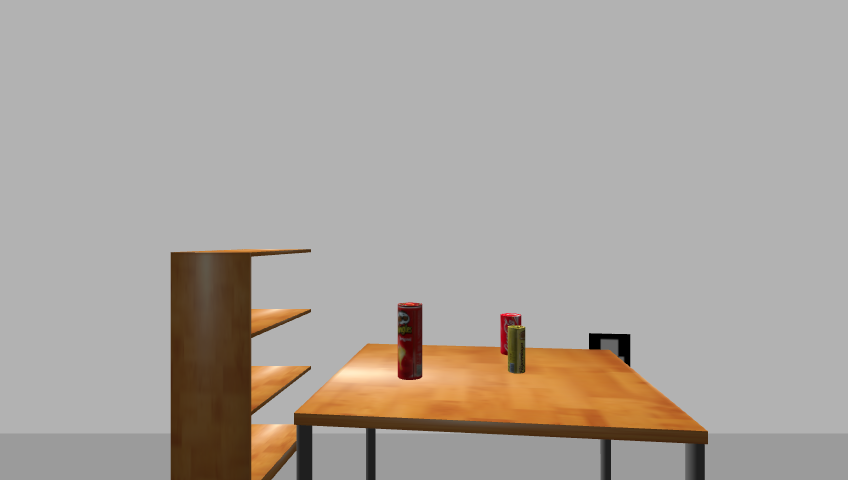aruco marker: (584, 331, 635, 370)
biscuits pack: (507, 327, 527, 374)
bookshelf: (165, 246, 319, 480)
coke can: (498, 313, 525, 355)
dinner table: (288, 341, 716, 480)
pringles can: (395, 302, 424, 382)
